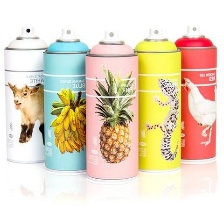aerosol_cans: (82, 25, 141, 185), (40, 25, 97, 176), (128, 24, 184, 176), (165, 20, 220, 166), (2, 20, 53, 166)
